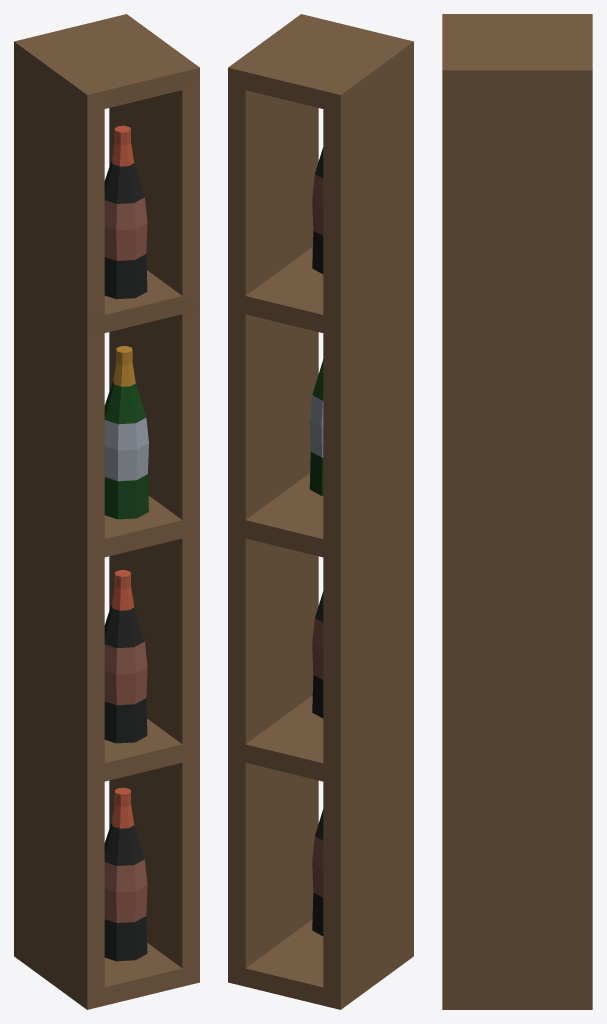
File: Accesories_Wineshelf_B.glb
The picture shows the model from 3 angles, left to right: view 1: azimuth 30°, elevation 25°; view 2: azimuth 150°, elevation 25°; view 3: azimuth 270°, elevation 25°; orthographic projection. The views are drawn at different scales.
Visible parts, largest first — view 1: Accesories_Wineshelf_B; view 2: Accesories_Wineshelf_B; view 3: Accesories_Wineshelf_B.
Part boxes in pixels (x1,y1,x2,y2): Accesories_Wineshelf_B: [14, 14, 199, 1009]; Accesories_Wineshelf_B: [228, 14, 413, 1009]; Accesories_Wineshelf_B: [442, 14, 592, 1009].
Bounding box in the file's own units: 0.2009 × 1.56 × 0.2262.
1 material, 1 textured.
